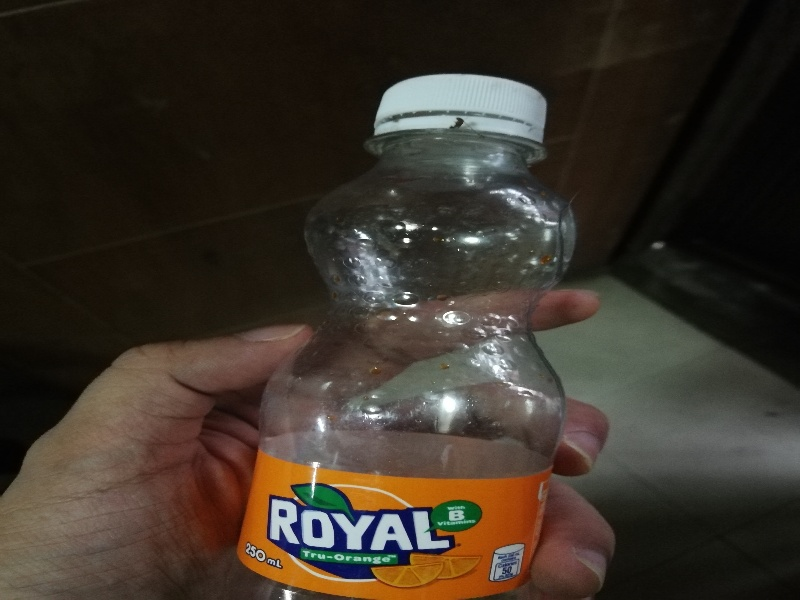PET #1: (222, 62, 581, 600)
